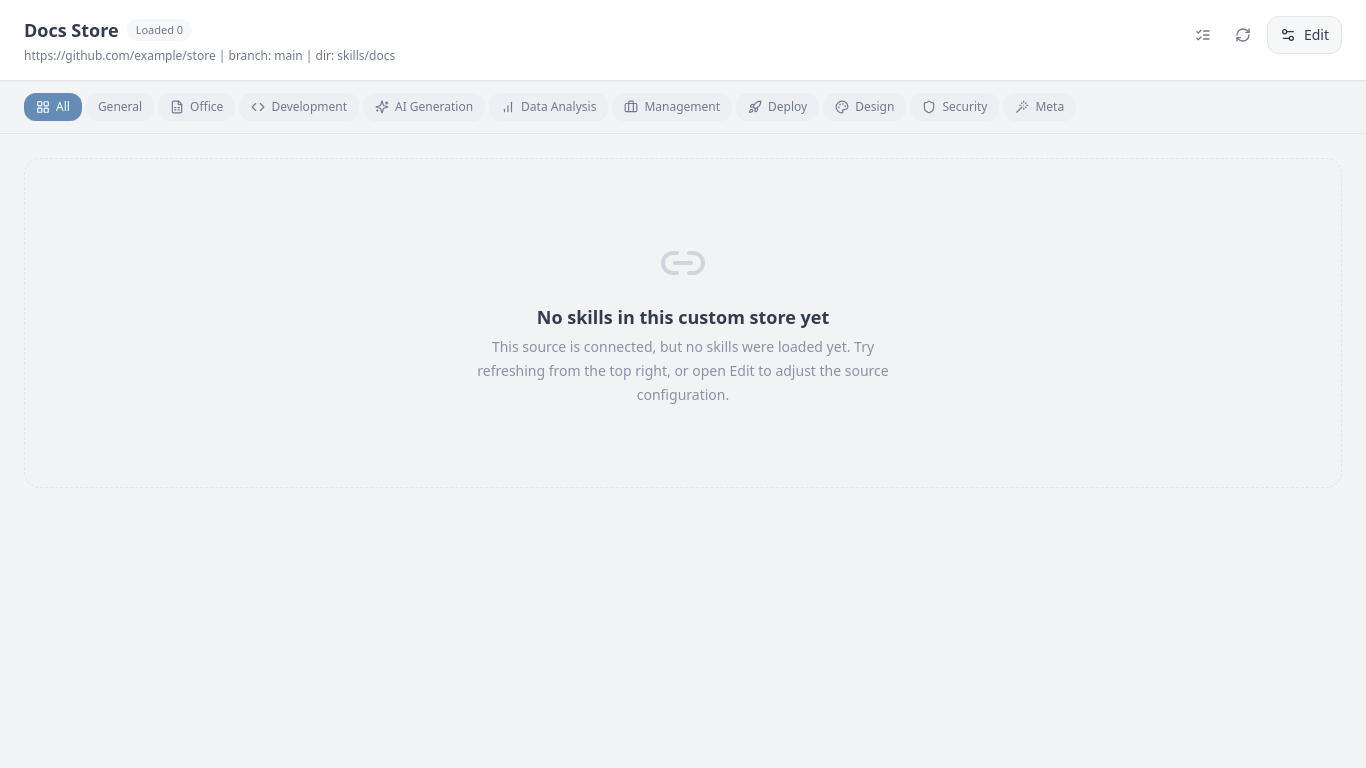
SkillStore custom sources › edits a custom store source from the header action modal
Click the button "Edit". click: (1304, 35)
box: left=1267, top=16, right=1342, bottom=54
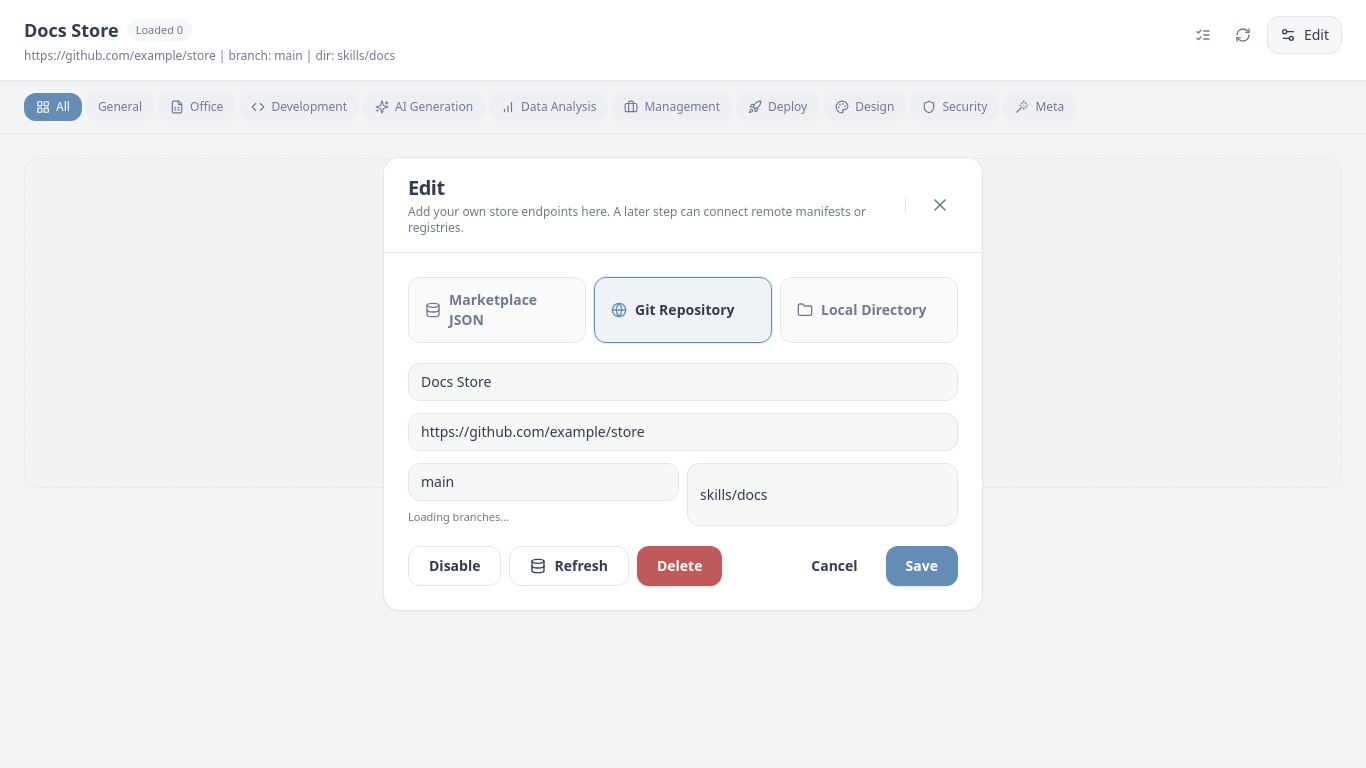
Replace the text in the 1st field showing "Docs Store" with "Docs Store Renamed". click: (683, 382)
box: left=408, top=363, right=958, bottom=401
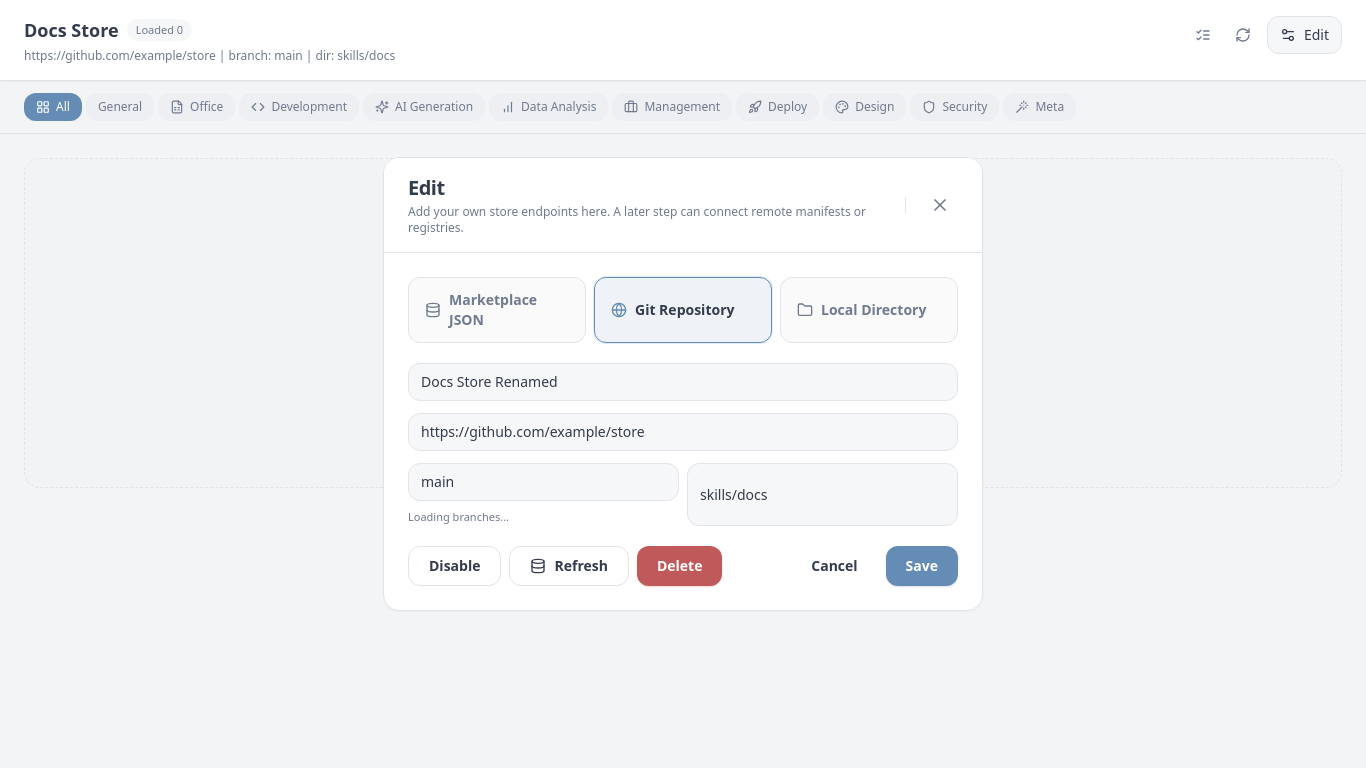
Replace the text in the 3rd field showing "main" with "release". click: (544, 482)
box: left=408, top=463, right=679, bottom=501
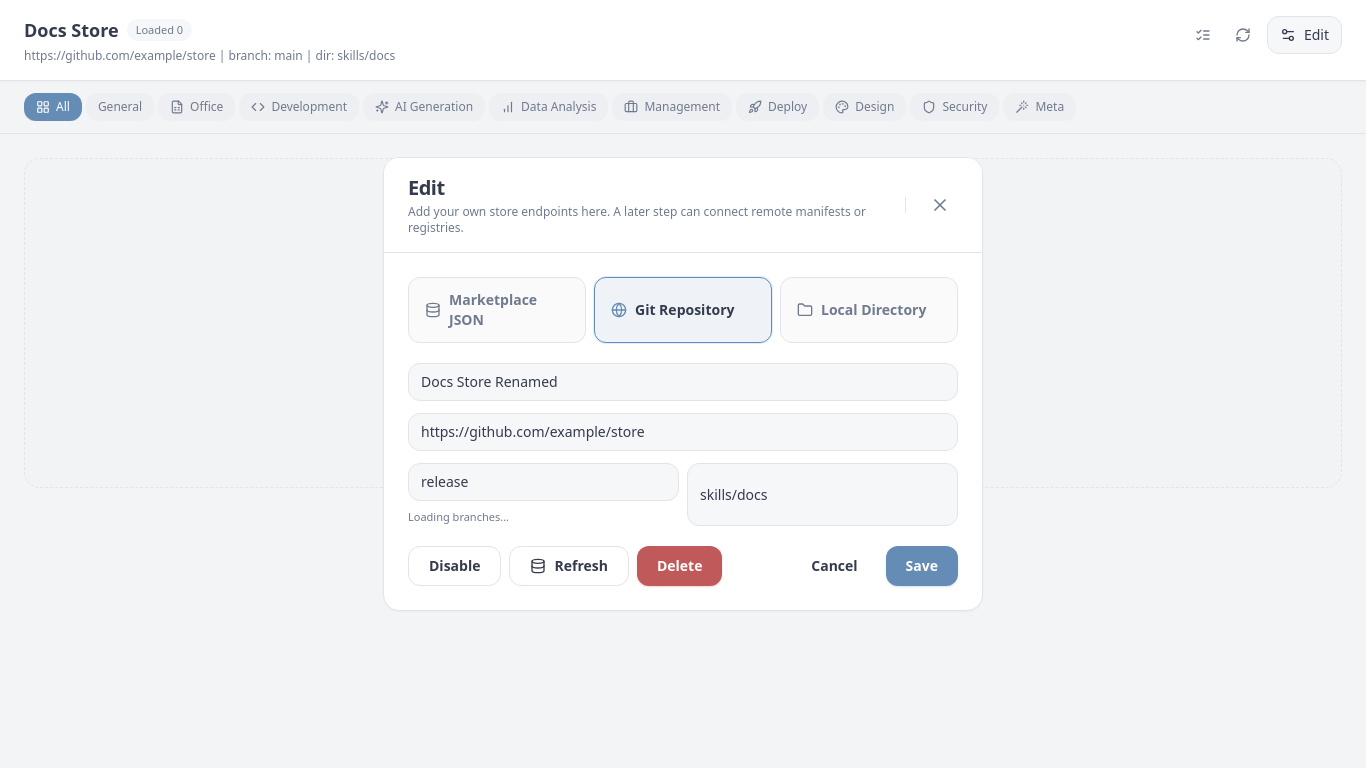
Click the button "Save". click: (922, 566)
box: left=886, top=546, right=958, bottom=586
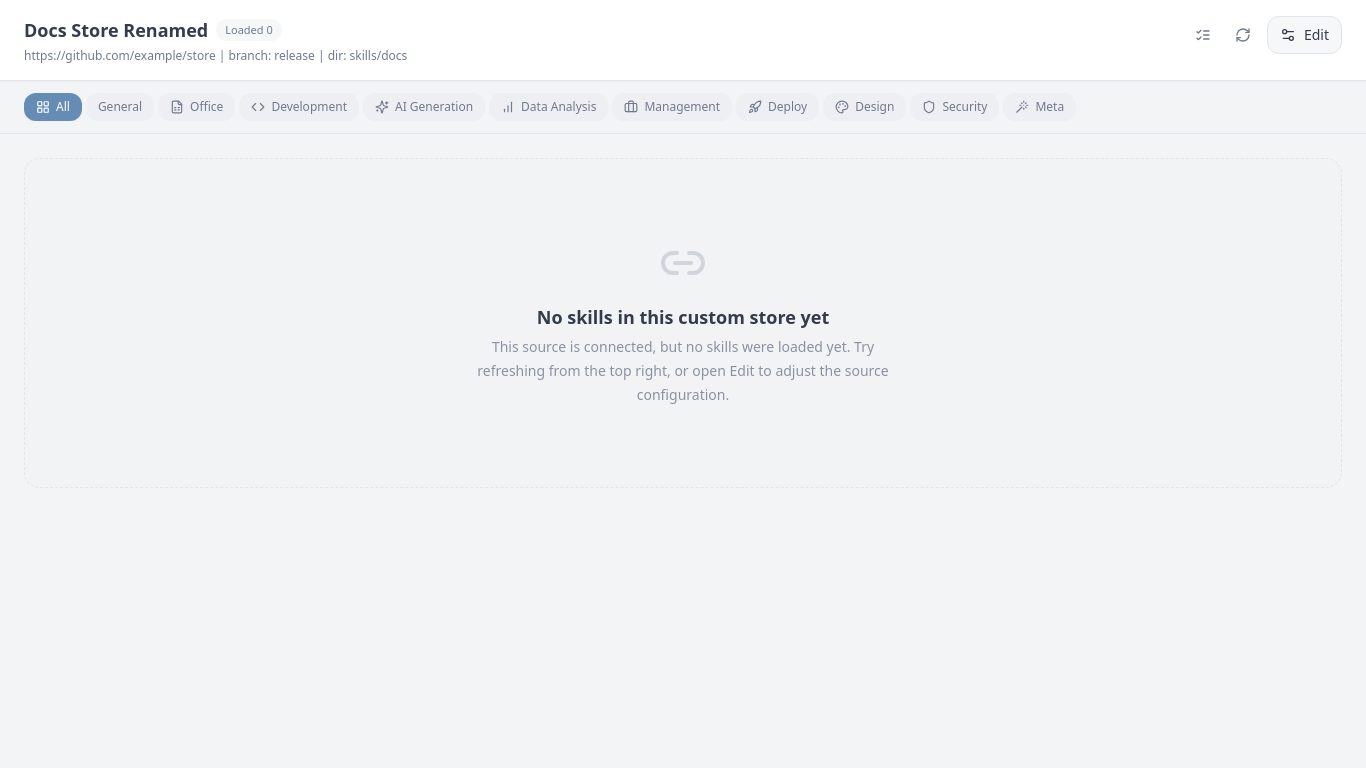
Now the heading "Docs Store Renamed" is shown, box left=24, top=16, right=208, bottom=44
